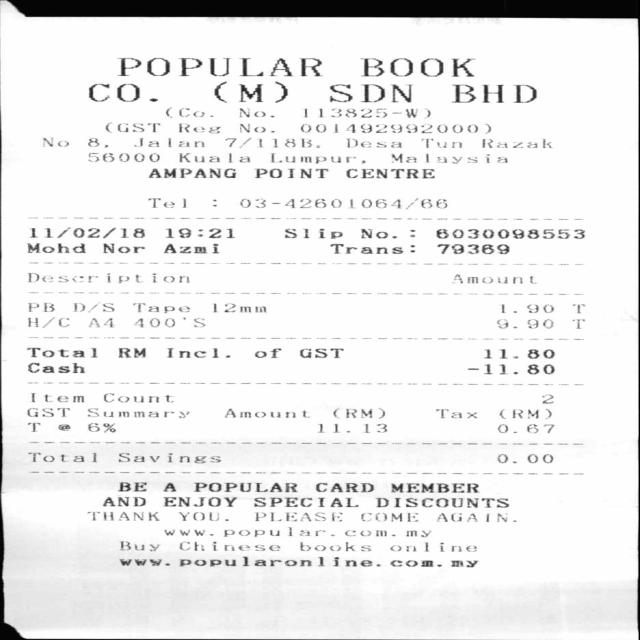text: (117, 58, 320, 76), (179, 556, 477, 568), (223, 526, 430, 538), (238, 198, 446, 208), (359, 58, 472, 76), (298, 124, 490, 134), (26, 272, 189, 282), (214, 80, 286, 102), (452, 84, 535, 102), (434, 228, 583, 238), (375, 497, 509, 508), (330, 84, 410, 102), (300, 107, 430, 118), (28, 226, 144, 238), (116, 452, 221, 463), (391, 153, 506, 163), (192, 482, 298, 492), (252, 497, 358, 507), (87, 83, 140, 102), (147, 167, 237, 178), (85, 408, 188, 417), (178, 541, 278, 550), (345, 168, 434, 178), (132, 316, 205, 328), (450, 274, 537, 284), (254, 512, 340, 522), (270, 152, 354, 162), (329, 243, 403, 254), (222, 138, 311, 147), (223, 408, 309, 417), (391, 483, 477, 492), (389, 542, 475, 551), (484, 363, 554, 374), (253, 168, 327, 178), (165, 227, 232, 238), (479, 348, 552, 358), (86, 152, 158, 162), (436, 244, 508, 254), (163, 496, 235, 506), (102, 392, 173, 402), (480, 138, 550, 148), (26, 347, 96, 357), (26, 452, 96, 462), (433, 512, 507, 521), (177, 153, 250, 162), (317, 423, 387, 432), (87, 511, 157, 520), (299, 542, 368, 551), (166, 348, 228, 358), (282, 228, 342, 238), (495, 453, 554, 463), (26, 362, 84, 372), (315, 482, 373, 492), (332, 407, 384, 418), (499, 408, 550, 419), (28, 243, 84, 253), (210, 302, 265, 312), (134, 138, 202, 146), (163, 244, 217, 254), (347, 138, 400, 148), (494, 319, 552, 328), (497, 424, 555, 433), (359, 512, 417, 521), (497, 303, 553, 312), (27, 316, 69, 328), (133, 303, 188, 312), (30, 393, 84, 402), (105, 123, 158, 132), (179, 511, 226, 521), (164, 106, 205, 117), (179, 122, 219, 133), (299, 348, 342, 358), (434, 408, 477, 418), (71, 302, 113, 312), (27, 407, 69, 417), (120, 540, 158, 551), (102, 243, 143, 253), (102, 496, 143, 506), (146, 198, 186, 208), (361, 227, 396, 238), (420, 138, 461, 147), (118, 558, 160, 566), (86, 317, 115, 327), (117, 481, 146, 491), (116, 347, 144, 357), (27, 302, 54, 312), (88, 422, 114, 432), (240, 124, 272, 132), (254, 348, 279, 358), (164, 529, 205, 535), (238, 108, 265, 117), (40, 137, 67, 146), (572, 318, 586, 328), (26, 422, 40, 431), (86, 137, 98, 147), (162, 482, 174, 492), (572, 304, 585, 312), (541, 394, 552, 403), (56, 423, 69, 430)
